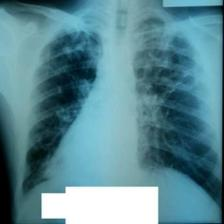tuberculosis: (15, 15, 223, 210)
